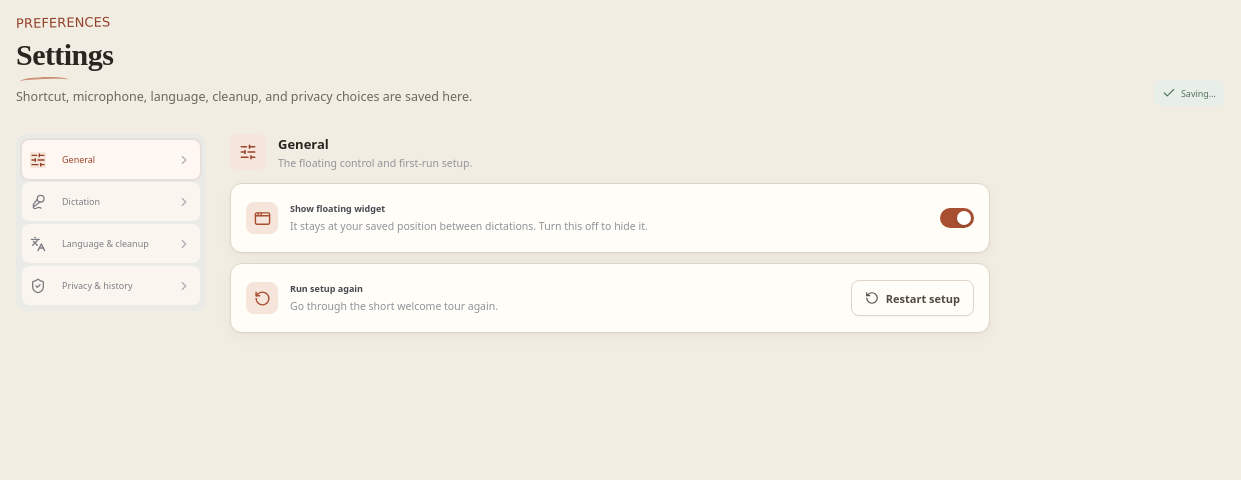
it: cleanup settings › locks native-backed choices while a save is pending
Click the button "Language & cleanup" at (111, 244), box 22,224 -> 200,263
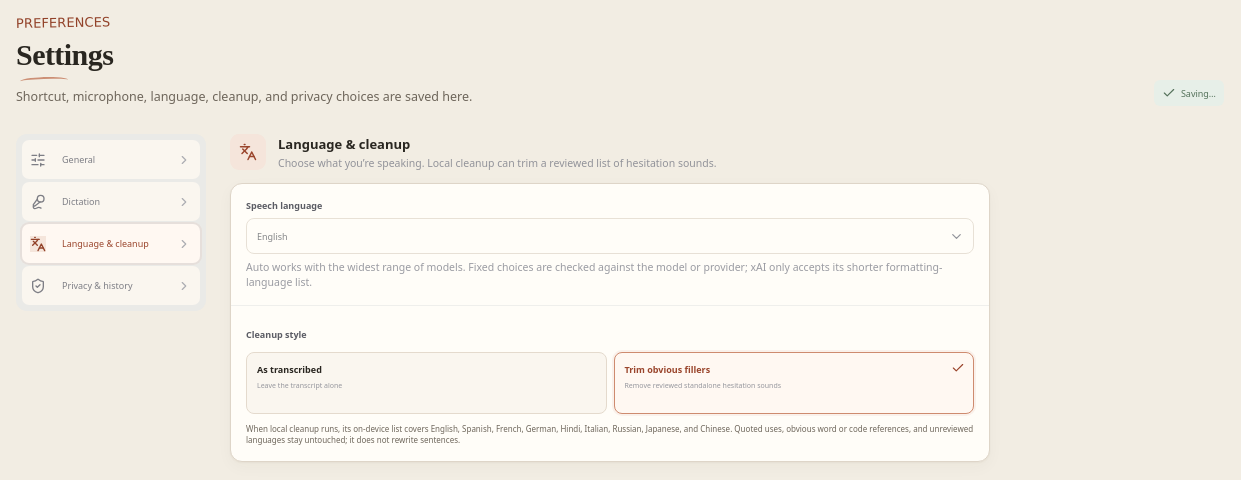
Expected: the dropdown is disabled, 246,218 -> 974,254
Expected: the button "As transcribed Leave the transcript alone" is disabled, 246,352 -> 606,414
Expected: the button "Trim obvious fillers" is disabled, 614,352 -> 974,414
